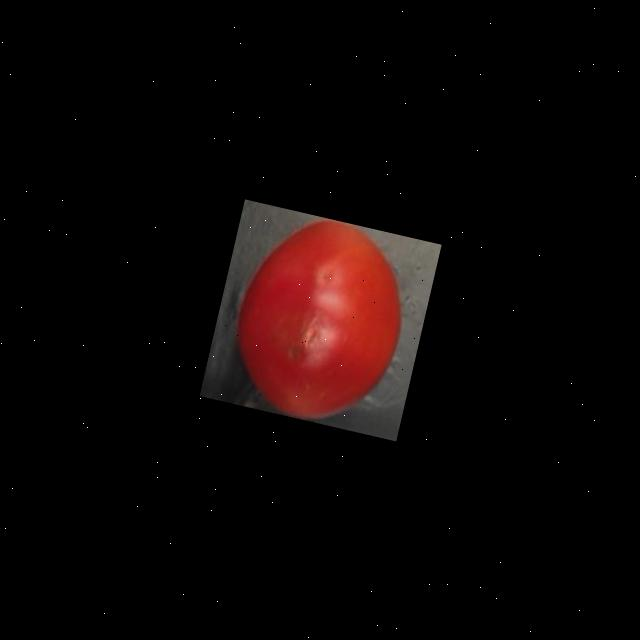tomato: (212, 202, 426, 436)
